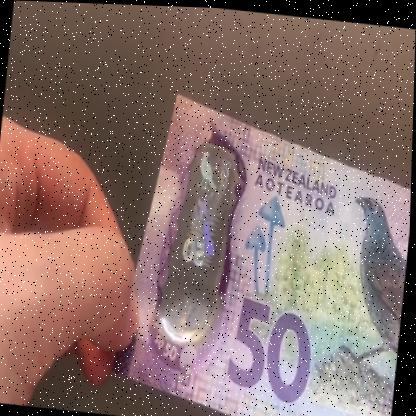50B: (163, 144, 234, 332)
